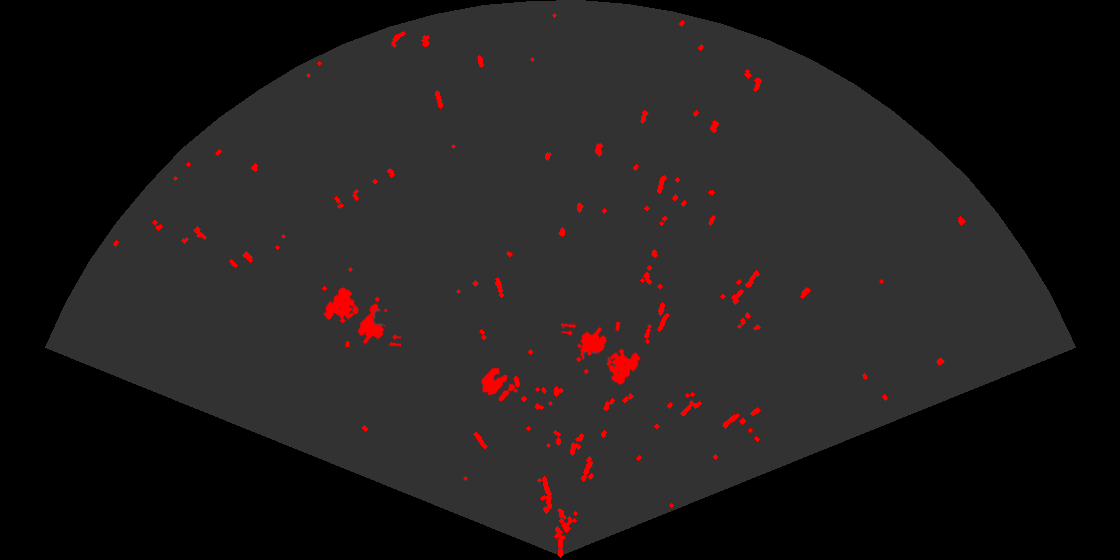ball: (480, 366, 516, 403)
cage: (561, 322, 642, 386), (322, 286, 401, 347)
